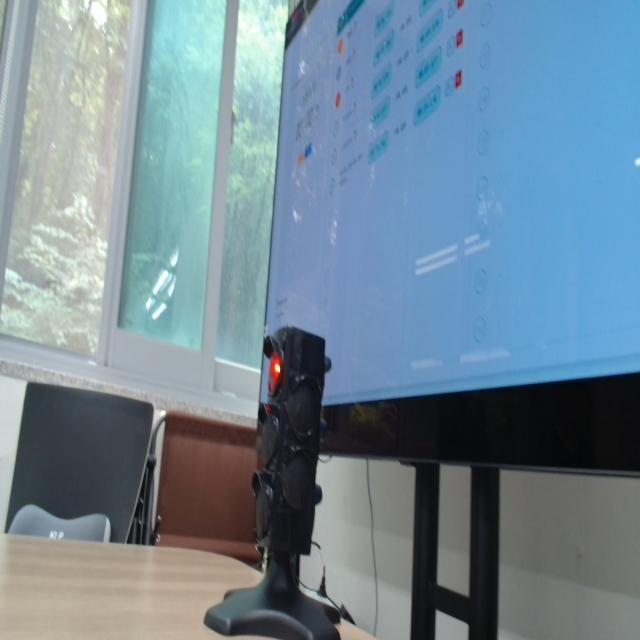red_light: (269, 353, 281, 395)
